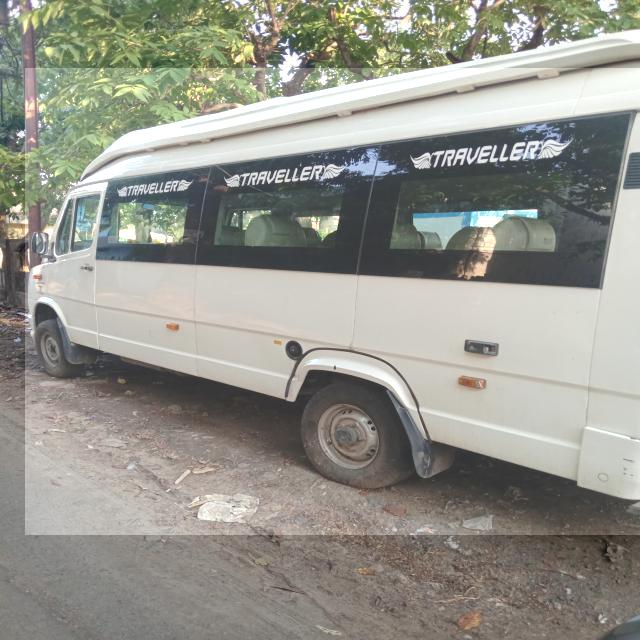Travller: (25, 68, 640, 535)
